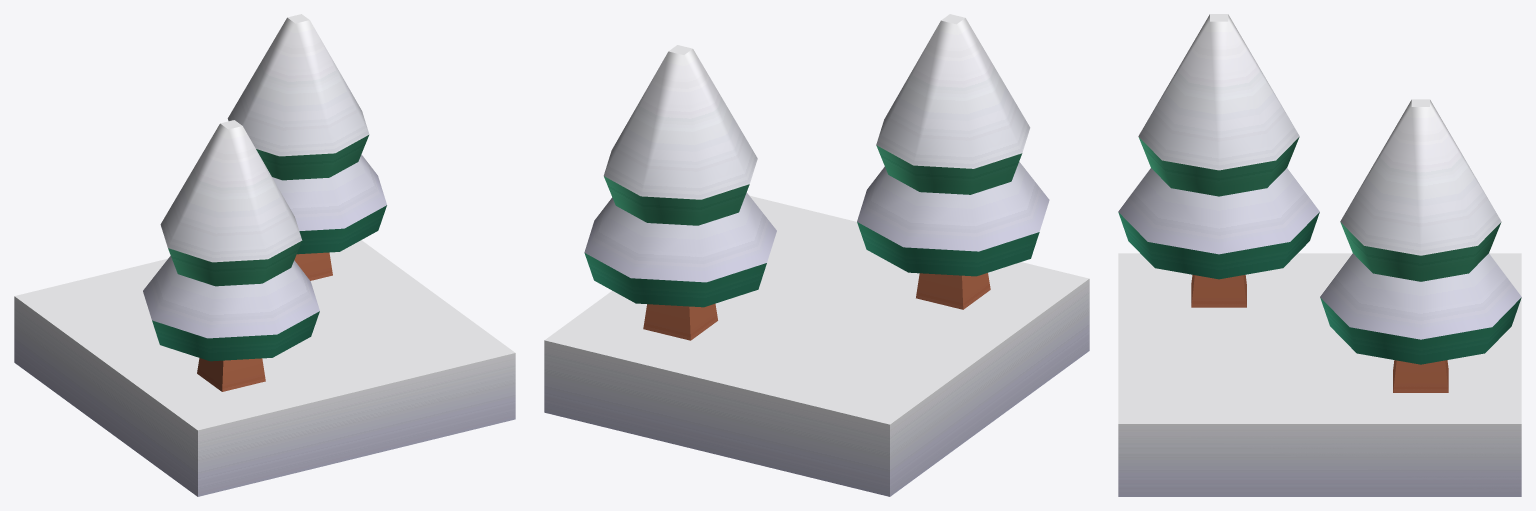
File: snow-tile-tree-double.glb
3 views of the same model, side by side, from view 1: azimuth 30°, elevation 25°; view 2: azimuth 150°, elevation 25°; view 3: azimuth 270°, elevation 25° (orthographic). The views are drawn at different scales.
Visible parts, largest first — view 1: snow-tile-tree-double; view 2: snow-tile-tree-double; view 3: snow-tile-tree-double.
Part boxes in pixels (x1,y1,x2,y2): snow-tile-tree-double: (14, 14, 515, 496); snow-tile-tree-double: (544, 14, 1089, 496); snow-tile-tree-double: (1118, 14, 1521, 496).
Size of the model in its own units: 1 by 0.96 by 1.
1 material, 1 textured.
